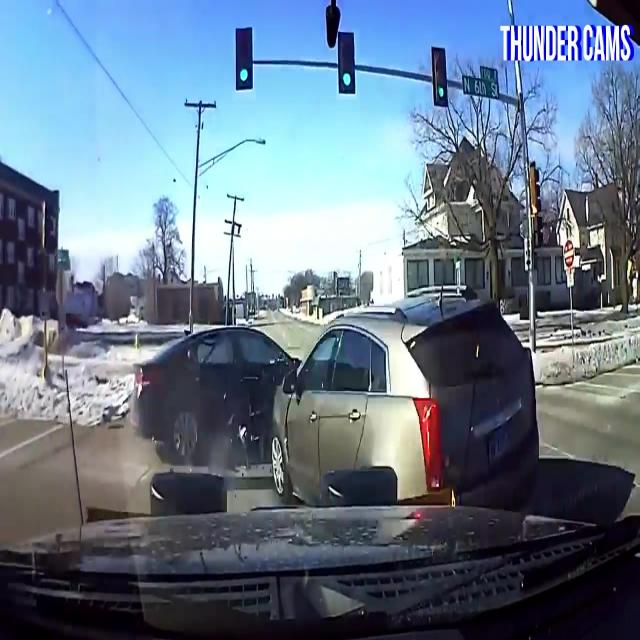accident: (127, 226, 534, 533)
